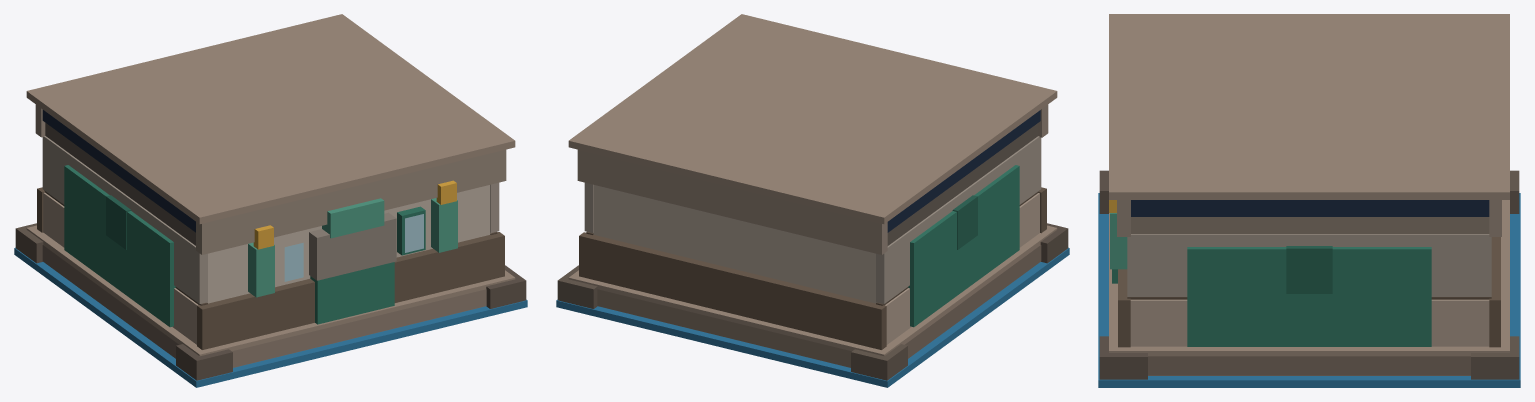
File: StatueOfLibertySil.fbx
3 renders of one model, left to right at view 1: azimuth 30°, elevation 25°; view 2: azimuth 150°, elevation 25°; view 3: azimuth 270°, elevation 25°, orthographic. The views are drawn at different scales.
Parts seen in each view (by area): view 1: SL_S_All; view 2: SL_S_All; view 3: SL_S_All.
Boxes of the visible parts, x1=… form: SL_S_All: x1=14, y1=14, x2=527, y2=387; SL_S_All: x1=556, y1=14, x2=1069, y2=387; SL_S_All: x1=1098, y1=14, x2=1520, y2=387.
Size of the model in its own units: 42.04 by 20 by 40.04.
